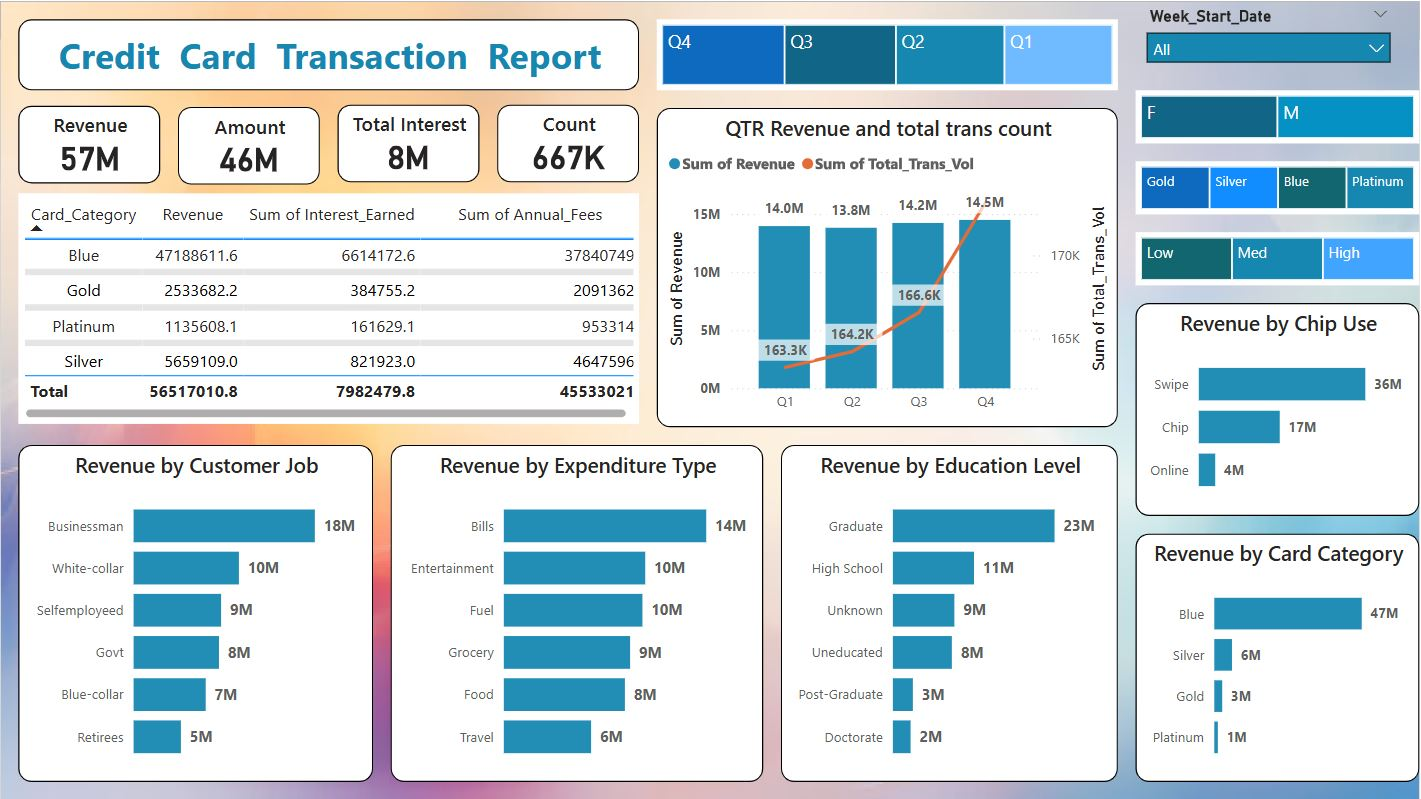

The dashboard page shown, as its layout file describes it:
{"tool":"powerbi","page":{"name":"Credit Card Transaction ","canvas":[1280,720],"ordinal":1},"visuals":[{"type":"textbox","box":[16,16,528,64],"z":0},{"type":"lineStackedColumnComboChart","title":"QTR Revenue and total trans count","fields":{"Category":["ccdb credit_card.Qtr"],"Y":["Sum(ccdb credit_card.Revenue)"],"Y2":["Sum(ccdb credit_card.Total_Trans_Vol)"]},"box":[592,112,320,288],"z":1000},{"type":"clusteredBarChart","title":" Revenue by Expenditure Type","fields":{"Y":["Sum(ccdb credit_card.Revenue)"],"Category":["ccdb credit_card.Exp Type"]},"box":[272,416,240,288],"z":2000},{"type":"clusteredBarChart","title":" Revenue by Education Level","fields":{"Y":["Sum(ccdb credit_card.Revenue)"],"Category":["ccdb customer.Education_Level"]},"box":[528,416,240,288],"z":3000},{"type":"clusteredBarChart","title":" Revenue by Customer Job","fields":{"Y":["Sum(ccdb credit_card.Revenue)"],"Category":["ccdb customer.Customer_Job"]},"box":[16,416,240,288],"z":4000},{"type":"clusteredBarChart","title":" Revenue by Card Category","fields":{"Y":["Sum(ccdb credit_card.Revenue)"],"Category":["ccdb credit_card.Card_Category"]},"box":[784,416,240,288],"z":5000},{"type":"clusteredBarChart","title":" Revenue by Chip Use","fields":{"Y":["Sum(ccdb credit_card.Revenue)"],"Category":["ccdb credit_card.Use Chip"]},"box":[1040,416,240,288],"z":6000},{"type":"tableEx","fields":{"Values":["ccdb credit_card.Card_Category","Sum(ccdb credit_card.Revenue)","Sum(ccdb credit_card.Total_Trans_Amt)","Sum(ccdb credit_card.Interest_Earned)"]},"box":[16,192,560,208],"z":7000},{"type":"card","title":"Revenue","fields":{"Values":["Sum(ccdb credit_card.Revenue)"]},"box":[16,113.3,128,70],"z":8000},{"type":"card","title":"Amount","fields":{"Values":["Sum(ccdb credit_card.Total_Trans_Amt)"]},"box":[160,114.7,128,70],"z":9000},{"type":"card","title":"Total Interest","fields":{"Values":["Sum(ccdb credit_card.Interest_Earned)"]},"box":[304,112,128,70],"z":10000},{"type":"card","title":"Count","fields":{"Values":["Sum(ccdb credit_card.Total_Trans_Vol)"]},"box":[448,112,128,70],"z":11000},{"type":"slicer","fields":{"Values":["ccdb credit_card.Week_Start_Date"]},"box":[1024,16,224,80],"z":12000},{"type":"treemap","fields":{"Group":["ccdb credit_card.Qtr"],"Values":["Avg(ccdb credit_card.ï»¿Client_Num)"]},"box":[560,16,448,64],"z":13000},{"type":"treemap","fields":{"Group":["ccdb customer.Gender"],"Values":["Avg(ccdb credit_card.ï»¿Client_Num)"]},"box":[1024,112,224,48],"z":14000},{"type":"treemap","fields":{"Group":["ccdb credit_card.Card_Category"],"Values":["Avg(ccdb credit_card.ï»¿Client_Num)"]},"box":[928,176,320,48],"z":15000},{"type":"treemap","fields":{"Group":["ccdb customer.IncomeGroup"],"Values":["Avg(ccdb credit_card.ï»¿Client_Num)"]},"box":[976,240,272,48],"z":16000}]}

Visuals, with their boxes in screenshot pixels (x1, y1, x2, y2), scaled from the page's 1280x720 canvas onto the 1421x799 screenshot:
textbox: rect(18, 18, 604, 89)
"QTR Revenue and total trans count" lineStackedColumnComboChart: rect(657, 124, 1012, 444)
" Revenue by Expenditure Type" clusteredBarChart: rect(302, 462, 568, 781)
" Revenue by Education Level" clusteredBarChart: rect(586, 462, 853, 781)
" Revenue by Customer Job" clusteredBarChart: rect(18, 462, 284, 781)
" Revenue by Card Category" clusteredBarChart: rect(870, 462, 1137, 781)
" Revenue by Chip Use" clusteredBarChart: rect(1155, 462, 1420, 781)
tableEx - ccdb credit_card.Card_Category x Sum(ccdb credit_card.Revenue): rect(18, 213, 639, 444)
"Revenue" card: rect(18, 126, 160, 203)
"Amount" card: rect(178, 127, 320, 205)
"Total Interest" card: rect(337, 124, 480, 202)
"Count" card: rect(497, 124, 639, 202)
slicer - ccdb credit_card.Week_Start_Date: rect(1137, 18, 1385, 107)
treemap - ccdb credit_card.Qtr x Avg(ccdb credit_card.ï»¿Client_Num): rect(622, 18, 1119, 89)
treemap - ccdb customer.Gender x Avg(ccdb credit_card.ï»¿Client_Num): rect(1137, 124, 1385, 178)
treemap - ccdb credit_card.Card_Category x Avg(ccdb credit_card.ï»¿Client_Num): rect(1030, 195, 1385, 249)
treemap - ccdb customer.IncomeGroup x Avg(ccdb credit_card.ï»¿Client_Num): rect(1084, 266, 1385, 320)
